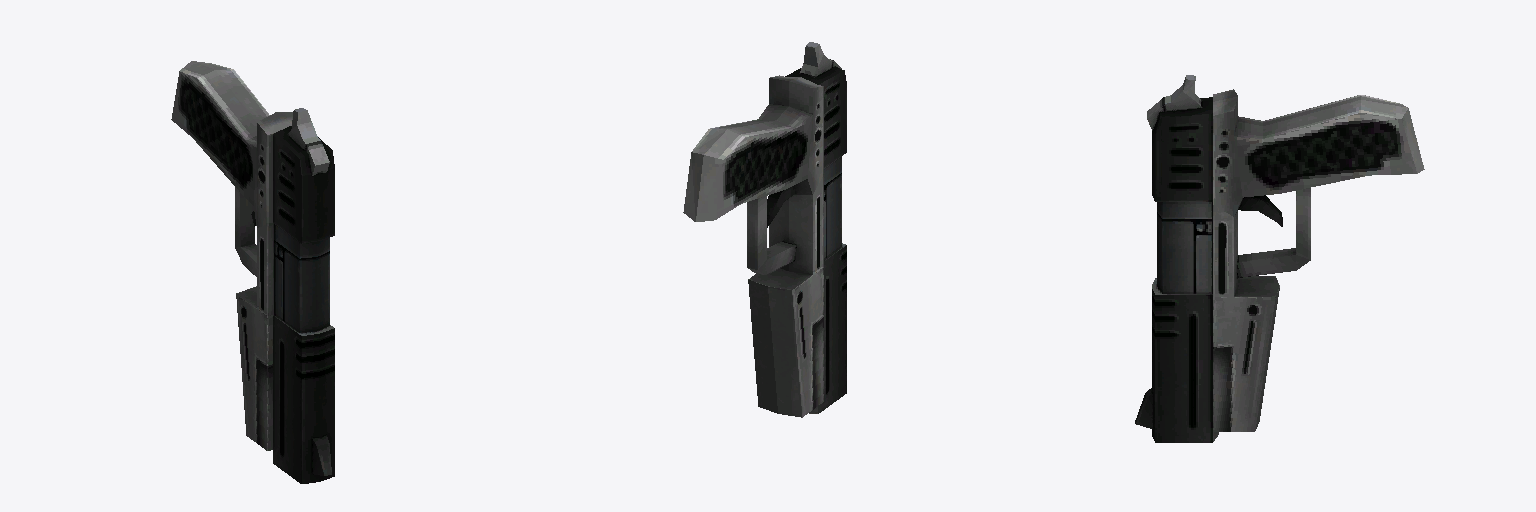
3 renders of one model, left to right at view 1: azimuth 30°, elevation 25°; view 2: azimuth 150°, elevation 25°; view 3: azimuth 270°, elevation 25°, orthographic.
Visible parts, largest first — view 1: handgun.gr2; view 2: handgun.gr2; view 3: handgun.gr2.
Part boxes in pixels (left/top/right/bottom): handgun.gr2: left=171, top=61, right=334, bottom=483; handgun.gr2: left=683, top=42, right=846, bottom=417; handgun.gr2: left=1135, top=75, right=1424, bottom=442.
Size of the model in its own units: 0.0779 by 0.6044 by 0.4427.
1 materials, 1 textured.